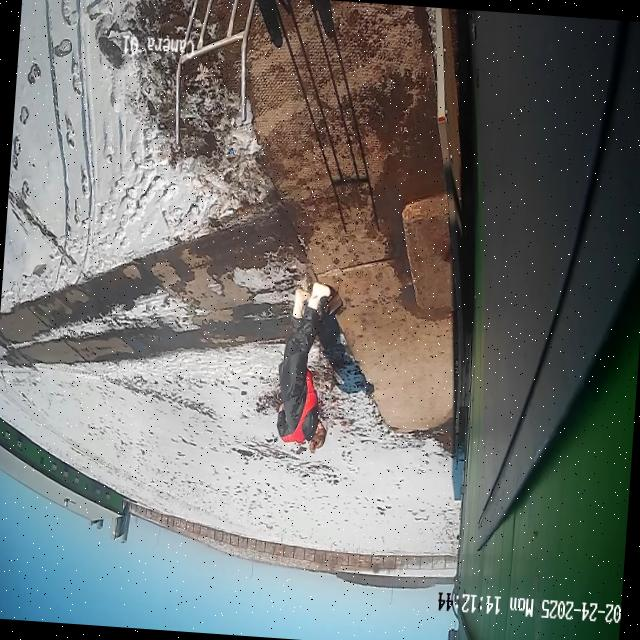Red uniform: (276, 281, 334, 452)
